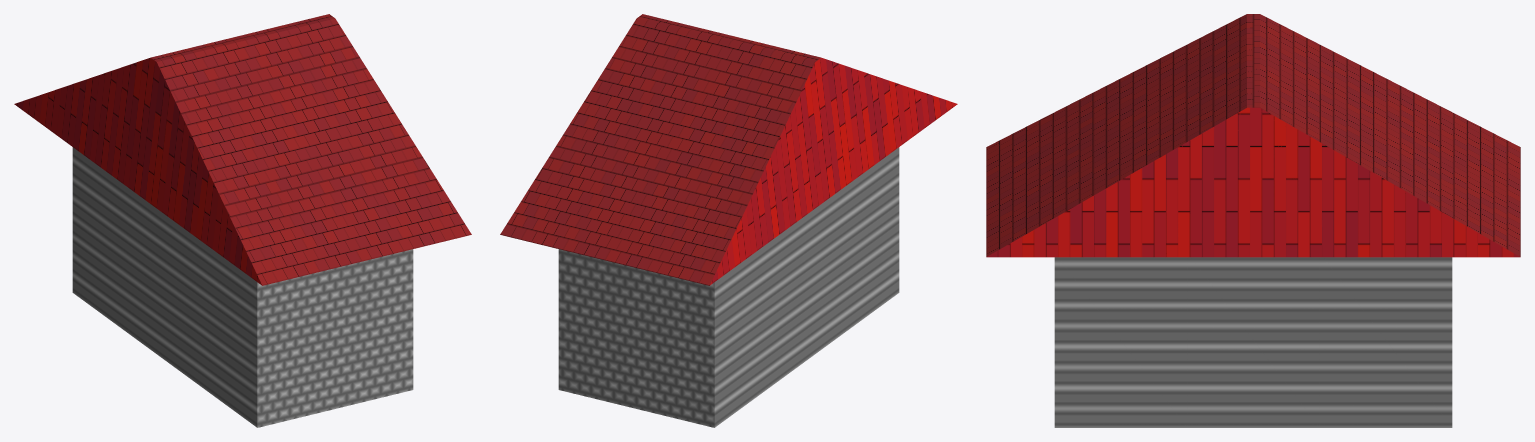
The model's file is garage.fbx.
The picture shows the model from 3 angles, left to right: view 1: azimuth 30°, elevation 25°; view 2: azimuth 150°, elevation 25°; view 3: azimuth 270°, elevation 25°; orthographic projection. The views are drawn at different scales.
Parts seen in each view (by area): view 1: Cube; view 2: Cube; view 3: Cube.
Boxes of the visible parts, x1,y1,x2,y2 form: Cube: (14,14,471,427); Cube: (500,14,957,427); Cube: (986,14,1520,427).
Size of the model in its own units: 336 by 465 by 690.
